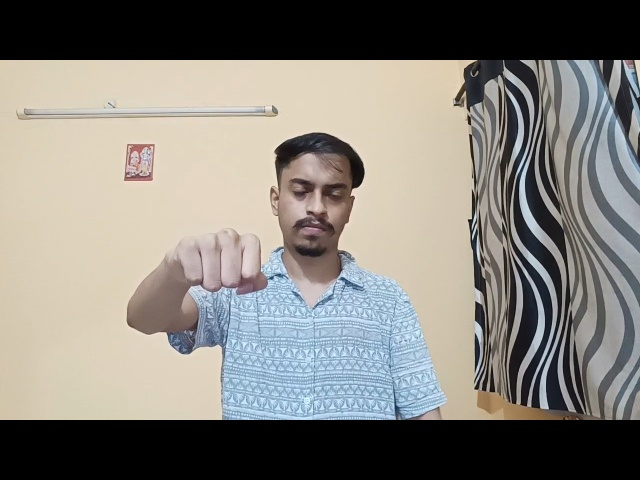Yes: (140, 209, 277, 327)
